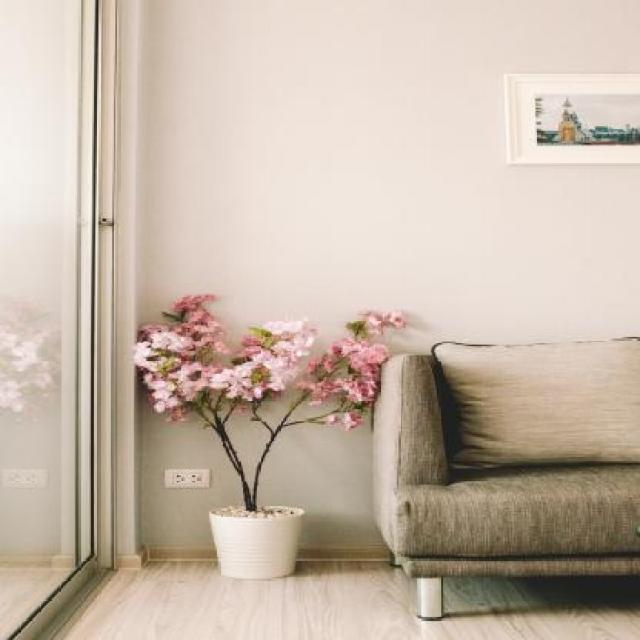Floor: (62, 557, 638, 640)
